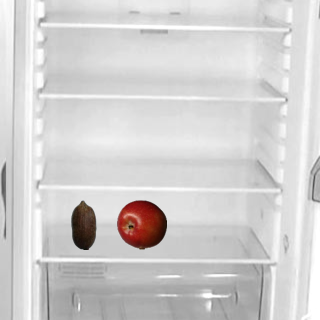Apple Braeburn: (116, 199, 166, 249)
Nut Pecan: (58, 199, 108, 249)
